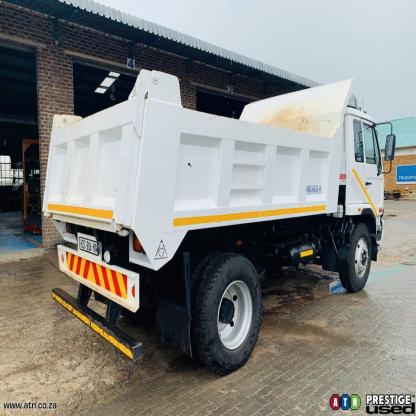dump_truck: (48, 61, 397, 377)
